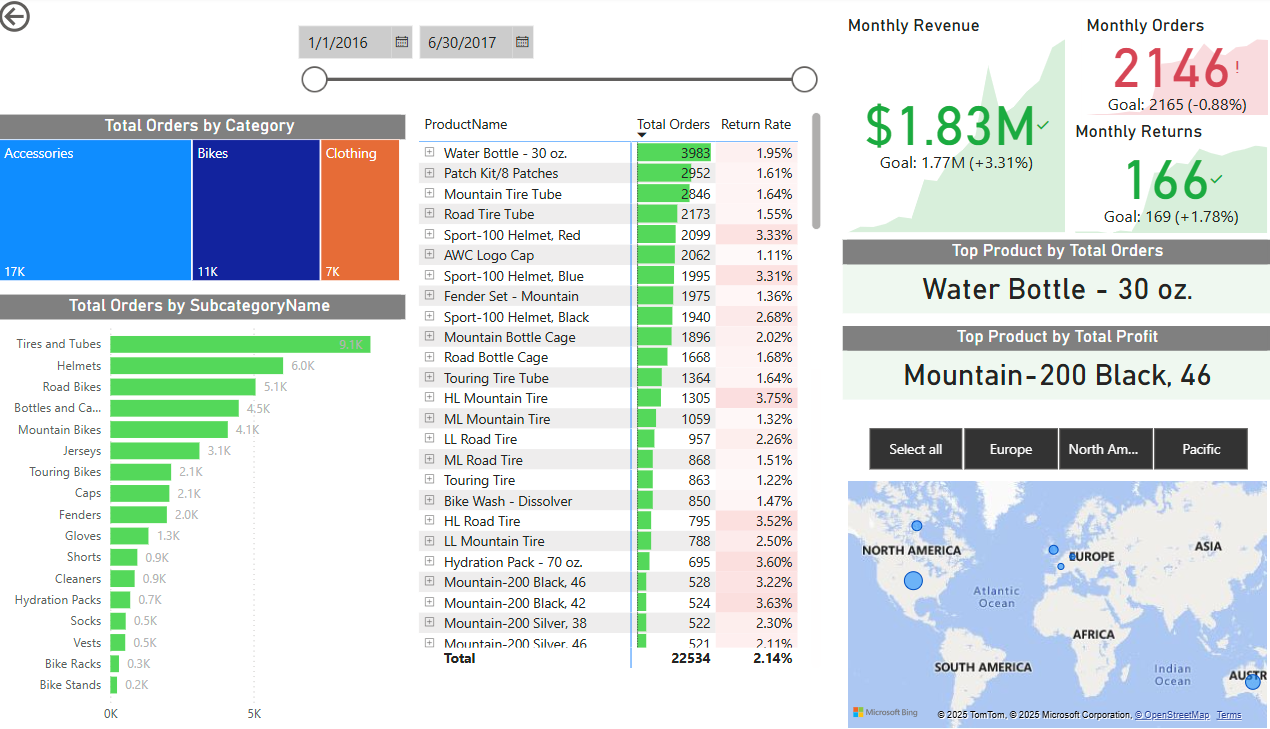

The page's visual inventory and layout, read from the dashboard file:
{"tool":"powerbi","page":{"name":"Exec  Summary","canvas":[1280,720],"ordinal":0},"visuals":[{"type":"barChart","title":"Total Orders by SubcategoryName","fields":{"Y":["AW_Sales.Total Orders"],"Category":["AW_Product_Subcategories_Lookup.SubcategoryName"]},"box":[0,292.2,402.2,427.8],"z":1000},{"type":"treemap","title":"Total Orders by Category","fields":{"Group":["AW_Product_Categories_Lookup.CategoryName","AW_Product_Subcategories_Lookup.SubcategoryName"],"Values":["AW_Sales.Total Orders"]},"box":[0,116.7,402.2,167.8],"z":2000},{"type":"actionButton","box":[0,0,100,40],"z":3000},{"type":"pivotTable","fields":{"Values":["AW_Sales.Total Orders","AW_Returns.Return Rate"],"Rows":["AW_Product_Lookup.ProductName","AW_Product_Subcategories_Lookup.SubcategoryName"]},"box":[410.8,109.2,403.1,553.8],"z":4000},{"type":"slicer","fields":{"Values":["AW_Calendar_Lookup.Date"]},"box":[285,18.3,528.8,91.4],"z":5000},{"type":"kpi","title":"Monthly Revenue","fields":{"TrendLine":["AW_Calendar_Lookup.Start of Month"],"Goal":["AW_Sales.Prev Month Revenue"],"Indicator":["AW_Sales.Total Revenue"]},"box":[830.5,18.9,222.5,218.2],"z":6000},{"type":"kpi","title":"Monthly Orders","fields":{"TrendLine":["AW_Calendar_Lookup.Start of Month"],"Indicator":["AW_Sales.Total Orders"],"Goal":["AW_Sales.Prev Month Orders"]},"box":[1063.3,18.9,187.6,103.3],"z":7000},{"type":"kpi","title":"Monthly Returns","fields":{"Goal":["AW_Sales.Prev Month Returns"],"Indicator":["AW_Returns.Total Returns"],"TrendLine":["AW_Calendar_Lookup.Start of Month"]},"box":[1053.1,122.2,197.8,114.9],"z":8000},{"type":"card","title":"Top Product by Total Orders","fields":{"Values":["Min(AW_Product_Lookup.ProductName)"]},"box":[830.4,238,420.3,72.2],"z":9000},{"type":"card","title":"Top Product by Total Profit","fields":{"Values":["Min(AW_Product_Lookup.ProductName)"]},"box":[830.4,322.8,420.3,72.2],"z":10000},{"type":"map","fields":{"Category":["AW_Territories_Lookup.Country"],"Size":["AW_Sales.Total Orders"]},"box":[830.4,469.6,420.3,250.6],"z":11000},{"type":"slicer","fields":{"Values":["AW_Territories_Lookup.Continent"]},"box":[830.4,415.2,420.3,54.4],"z":12000}]}

Visuals, with their boxes in screenshot pixels (x1, y1, x2, y2), scaled from the page's 1280x720 canvas onto the 1270x729 screenshot:
"Total Orders by SubcategoryName" barChart: pyautogui.locateOnScreen(0, 296, 399, 728)
"Total Orders by Category" treemap: pyautogui.locateOnScreen(0, 118, 399, 288)
actionButton: pyautogui.locateOnScreen(0, 0, 99, 40)
pivotTable - AW_Sales.Total Orders x AW_Returns.Return Rate: pyautogui.locateOnScreen(408, 111, 808, 671)
slicer - AW_Calendar_Lookup.Date: pyautogui.locateOnScreen(283, 19, 807, 111)
"Monthly Revenue" kpi: pyautogui.locateOnScreen(824, 19, 1045, 240)
"Monthly Orders" kpi: pyautogui.locateOnScreen(1055, 19, 1241, 124)
"Monthly Returns" kpi: pyautogui.locateOnScreen(1045, 124, 1241, 240)
"Top Product by Total Orders" card: pyautogui.locateOnScreen(824, 241, 1241, 314)
"Top Product by Total Profit" card: pyautogui.locateOnScreen(824, 327, 1241, 400)
map - AW_Territories_Lookup.Country x AW_Sales.Total Orders: pyautogui.locateOnScreen(824, 475, 1241, 728)
slicer - AW_Territories_Lookup.Continent: pyautogui.locateOnScreen(824, 420, 1241, 475)
